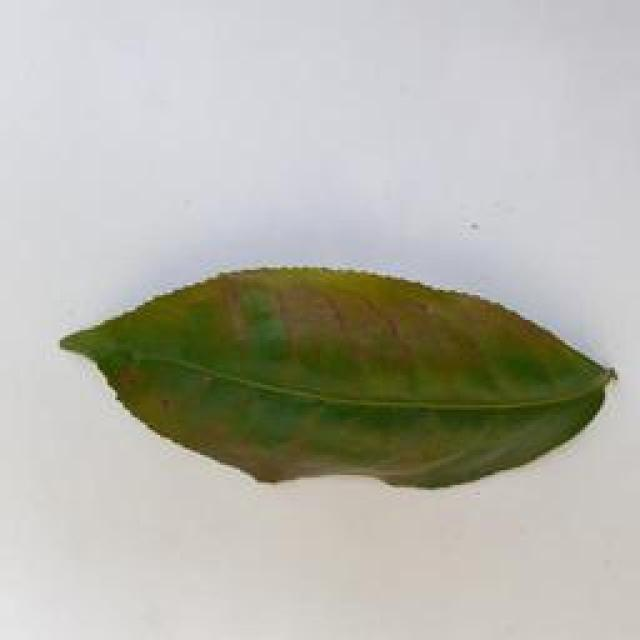Red Leaf Spot: (52, 251, 624, 505)
